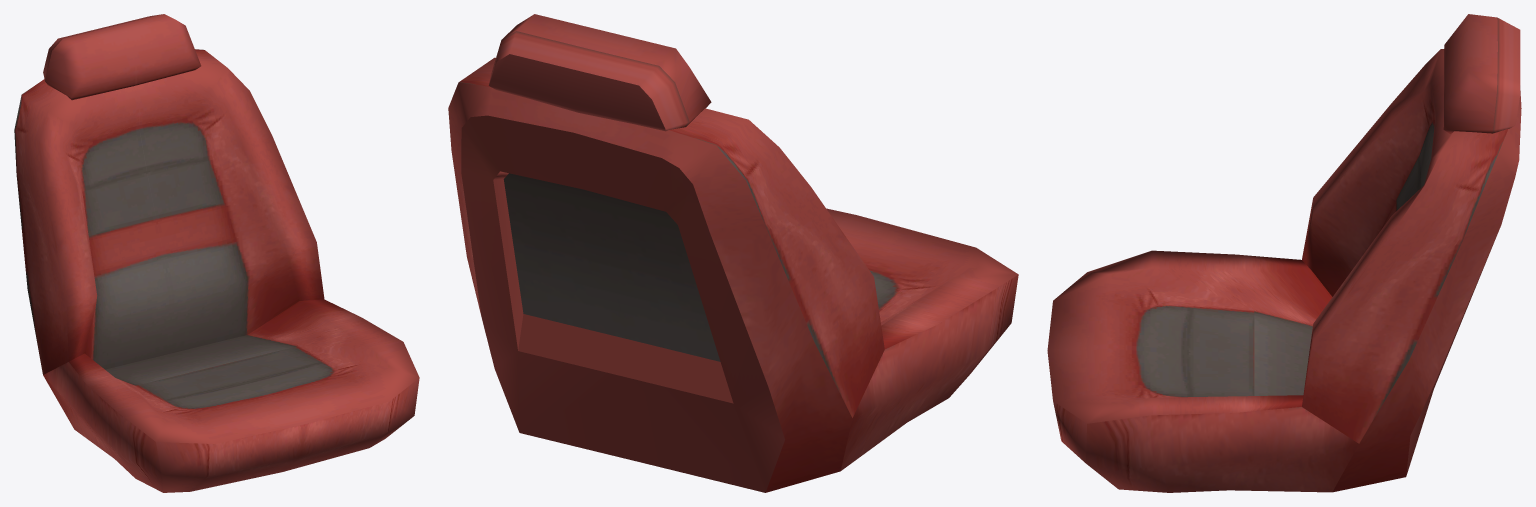
Rendered from AsientoAdelante.glb.
3 views of the same model, side by side, from view 1: azimuth 30°, elevation 25°; view 2: azimuth 150°, elevation 25°; view 3: azimuth 270°, elevation 25° (orthographic). The views are drawn at different scales.
Parts seen in each view (by area): view 1: polySurface20.1; view 2: polySurface20.1; view 3: polySurface20.1.
Boxes of the visible parts, x1,y1,x2,y2 form: polySurface20.1: (14,14,419,492); polySurface20.1: (448,14,1018,492); polySurface20.1: (1047,14,1521,492).
Bounding box in the file's own units: 0.00473 × 0.00518 × 0.00576.
Materials: 1 (1 with a texture image).
